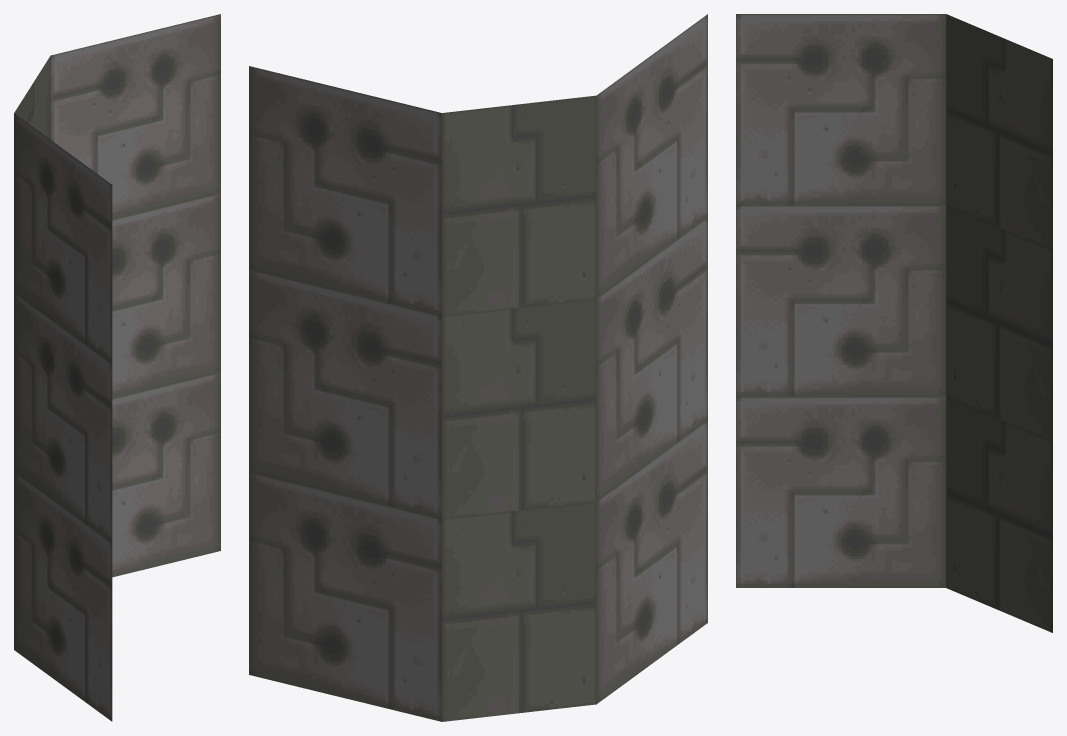
The model's file is Wall-Corner.fbx.
3 views of the same model, side by side, from view 1: azimuth 30°, elevation 25°; view 2: azimuth 150°, elevation 25°; view 3: azimuth 270°, elevation 25° (orthographic). The views are drawn at different scales.
Visible parts, largest first — view 1: Wall-Corner; view 2: Wall-Corner; view 3: Wall-Corner.
Part boxes in pixels (box(x1,y1,x2,y2)): Wall-Corner: box(14, 14, 220, 721); Wall-Corner: box(249, 14, 707, 721); Wall-Corner: box(736, 14, 1052, 632).
Bounding box in the file's own units: 3 × 6 × 3.
1 material, 1 textured.
